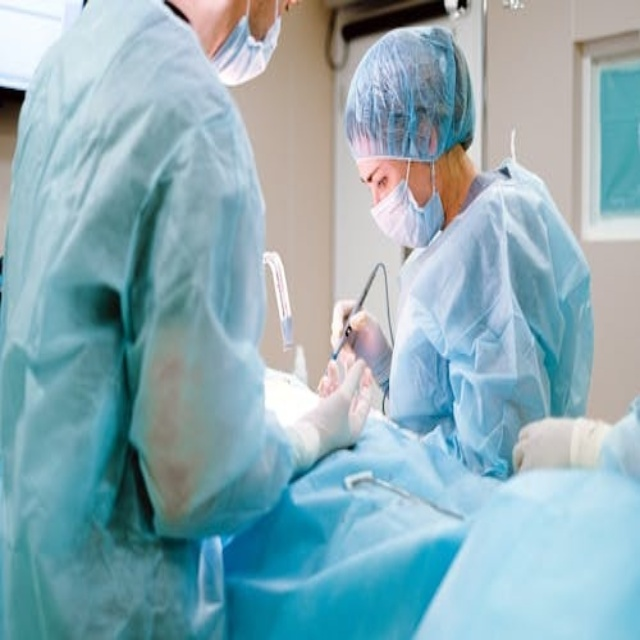Guantes: (506, 402, 609, 475), (301, 359, 379, 450), (326, 292, 387, 365)
Mascara: (370, 154, 444, 250), (210, 0, 283, 86)
Sin_gafas: (357, 156, 394, 198)
